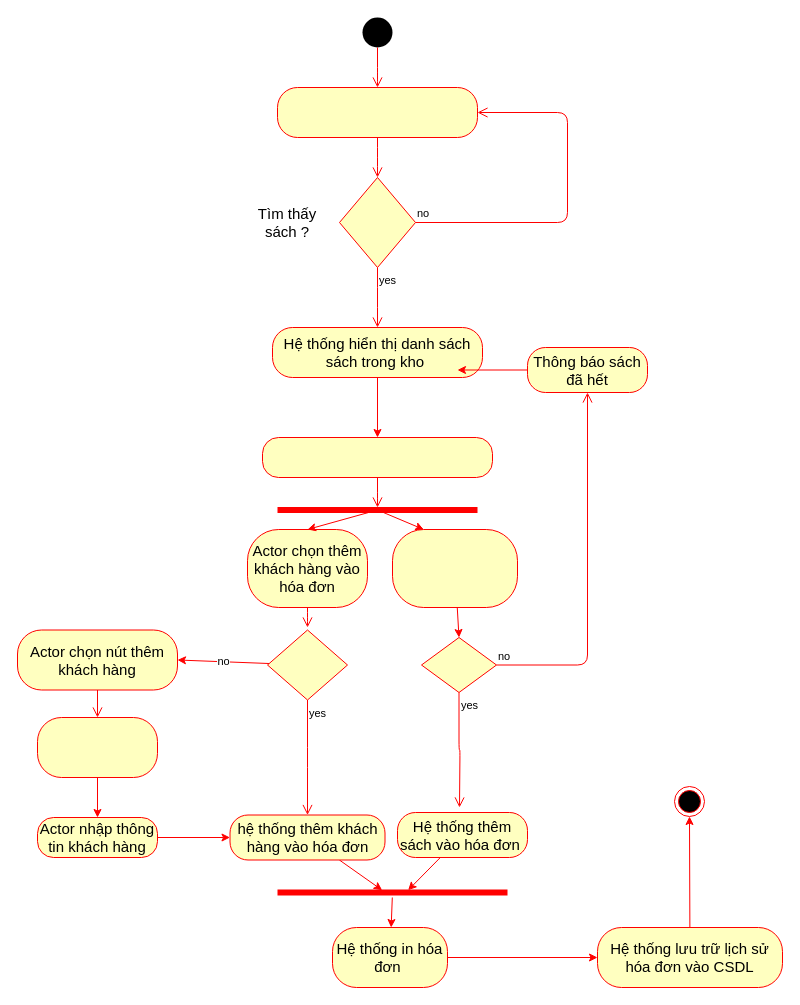
This 800x1005 diagram has some shape labels left out. Here are the shapes that lost their labels. From the top down, the box of each, then its label:
(276, 86, 478, 138): Actor nhập thông tin trong ô Tìm kiếm sách
(262, 436, 492, 478): Hệ thống tự động tạo phiếu hóa đơn
(392, 528, 518, 608): Actor chọn sách từ danh sách có sẵn đưa vào hóa đơn
(36, 716, 158, 778): Hệ thống hiển thị form thêm khách hàng
